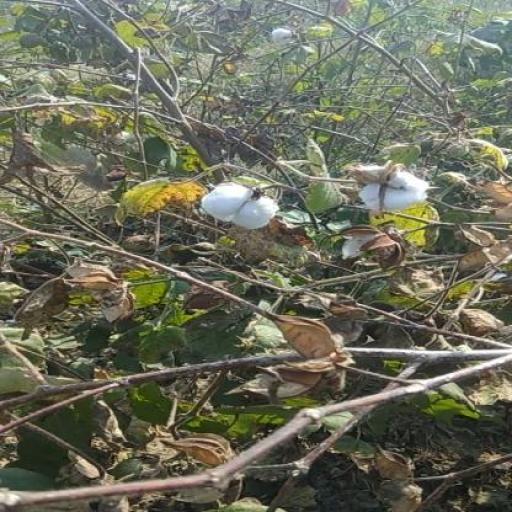cotton_ready: (163, 167, 306, 234), (336, 162, 444, 227)
